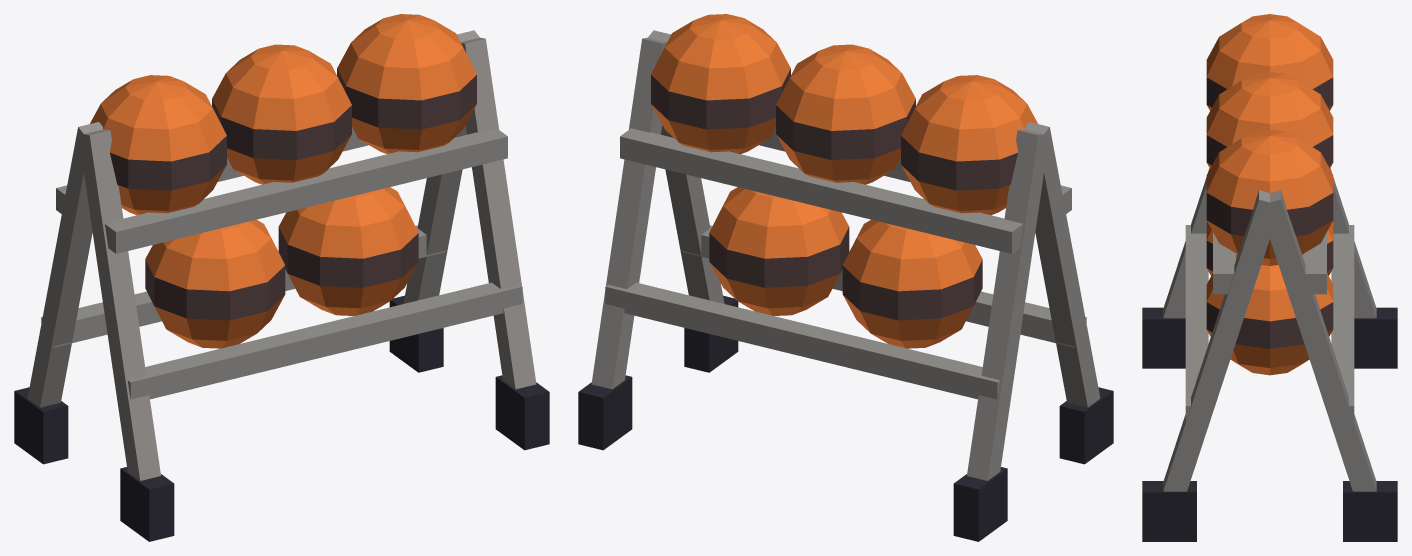
The model's file is rack.glb.
The picture shows the model from 3 angles, left to right: view 1: azimuth 30°, elevation 25°; view 2: azimuth 150°, elevation 25°; view 3: azimuth 270°, elevation 25°; orthographic projection. The views are drawn at different scales.
Parts seen in each view (by area): view 1: Ball1, Ball2, Ball0, Ball3, Ball4, R1, R3, FB0, FB1, FA0, FA1, WB1 (+5 smaller); view 2: Ball1, Ball2, Ball0, Ball3, Ball4, R0, R2, FA0, FA1, FB0, FB1, WA1 (+5 smaller); view 3: Ball2, FA1, FB1, Ball0, Ball1, Ball4, R2, R3, WA1, WB1, WA0, WB0 (+5 smaller).
Boxes of the visible parts, bbox=[...] form: Ball1: bbox=[212, 44, 351, 184]; Ball2: bbox=[337, 14, 476, 154]; Ball0: bbox=[90, 75, 226, 215]; Ball3: bbox=[145, 219, 285, 348]; Ball4: bbox=[278, 187, 418, 315]; R1: bbox=[105, 128, 507, 253]; R3: bbox=[127, 282, 522, 399]; FB0: bbox=[78, 129, 160, 480]; FB1: bbox=[461, 37, 536, 389]; FA0: bbox=[27, 122, 103, 407]; FA1: bbox=[403, 30, 479, 303]; WB1: bbox=[495, 375, 549, 450]; Ball1: bbox=[776, 44, 915, 184]; Ball2: bbox=[651, 14, 790, 154]; Ball0: bbox=[901, 75, 1037, 215]; Ball3: bbox=[842, 219, 982, 348]; Ball4: bbox=[709, 187, 849, 315]; R0: bbox=[620, 128, 1022, 253]; R2: bbox=[605, 282, 1000, 399]; FA0: bbox=[967, 129, 1049, 480]; FA1: bbox=[591, 37, 666, 389]; FB0: bbox=[1024, 122, 1100, 407]; FB1: bbox=[648, 30, 724, 303]; WA1: bbox=[578, 375, 632, 450]; Ball2: bbox=[1206, 129, 1333, 265]; FA1: bbox=[1259, 190, 1376, 491]; FB1: bbox=[1163, 190, 1280, 491]; Ball0: bbox=[1206, 14, 1333, 110]; Ball1: bbox=[1206, 71, 1333, 168]; Ball4: bbox=[1206, 254, 1333, 375]; R2: bbox=[1331, 225, 1354, 421]; R3: bbox=[1185, 225, 1208, 421]; WA1: bbox=[1343, 481, 1397, 541]; WB1: bbox=[1142, 481, 1196, 541]; WA0: bbox=[1354, 307, 1397, 368]; WB0: bbox=[1142, 307, 1185, 368].
Size of the model in its own units: 0.96 by 0.9 by 0.56.
